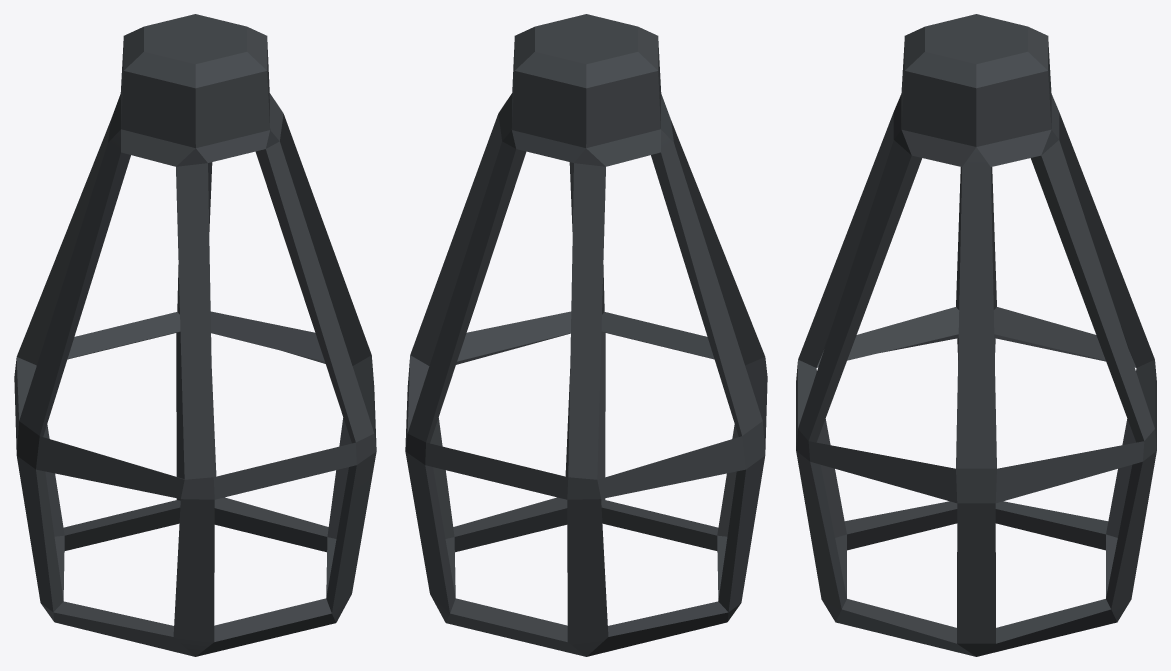
File: SM_Prop_Lighting_Ceiling_Cage_01.obj
3 renders of one model, left to right at view 1: azimuth 30°, elevation 25°; view 2: azimuth 150°, elevation 25°; view 3: azimuth 270°, elevation 25°, orthographic.
Visible parts, largest first — view 1: SM_Prop_Lighting_Ceiling_Cage_01_0; view 2: SM_Prop_Lighting_Ceiling_Cage_01_0; view 3: SM_Prop_Lighting_Ceiling_Cage_01_0.
Boxes of the visible parts, x1,y1,x2,y2 form: SM_Prop_Lighting_Ceiling_Cage_01_0: [14, 14, 376, 656]; SM_Prop_Lighting_Ceiling_Cage_01_0: [405, 14, 767, 656]; SM_Prop_Lighting_Ceiling_Cage_01_0: [796, 14, 1156, 656].
Size of the model in its own units: 0.4172 by 0.6476 by 0.3856.
Materials: 1 (1 with a texture image).
